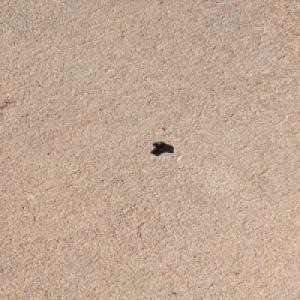BoltWasher: (149, 141, 168, 154)
